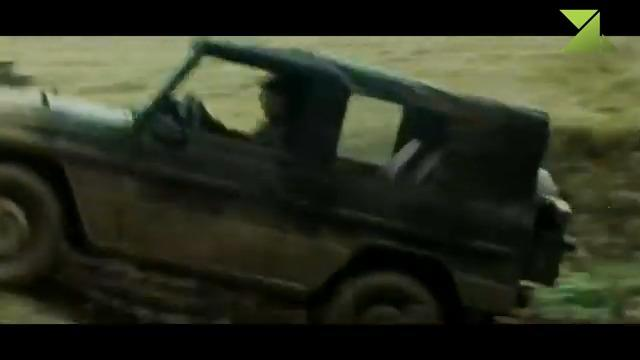MIL_HMMWV: (0, 41, 574, 340)
